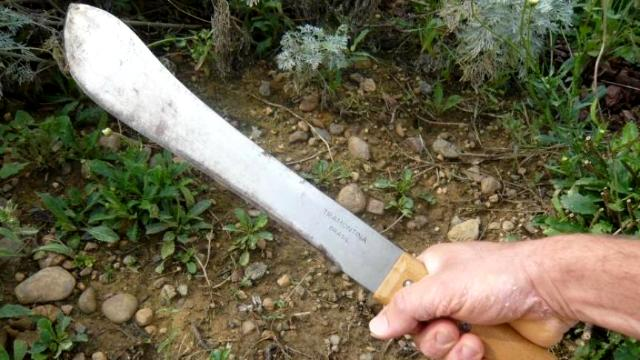long knife: (51, 6, 410, 310)
